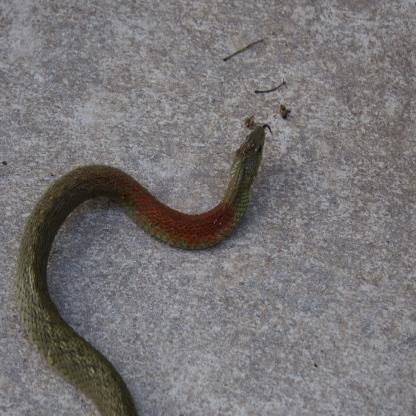Snake: (18, 122, 268, 416)
